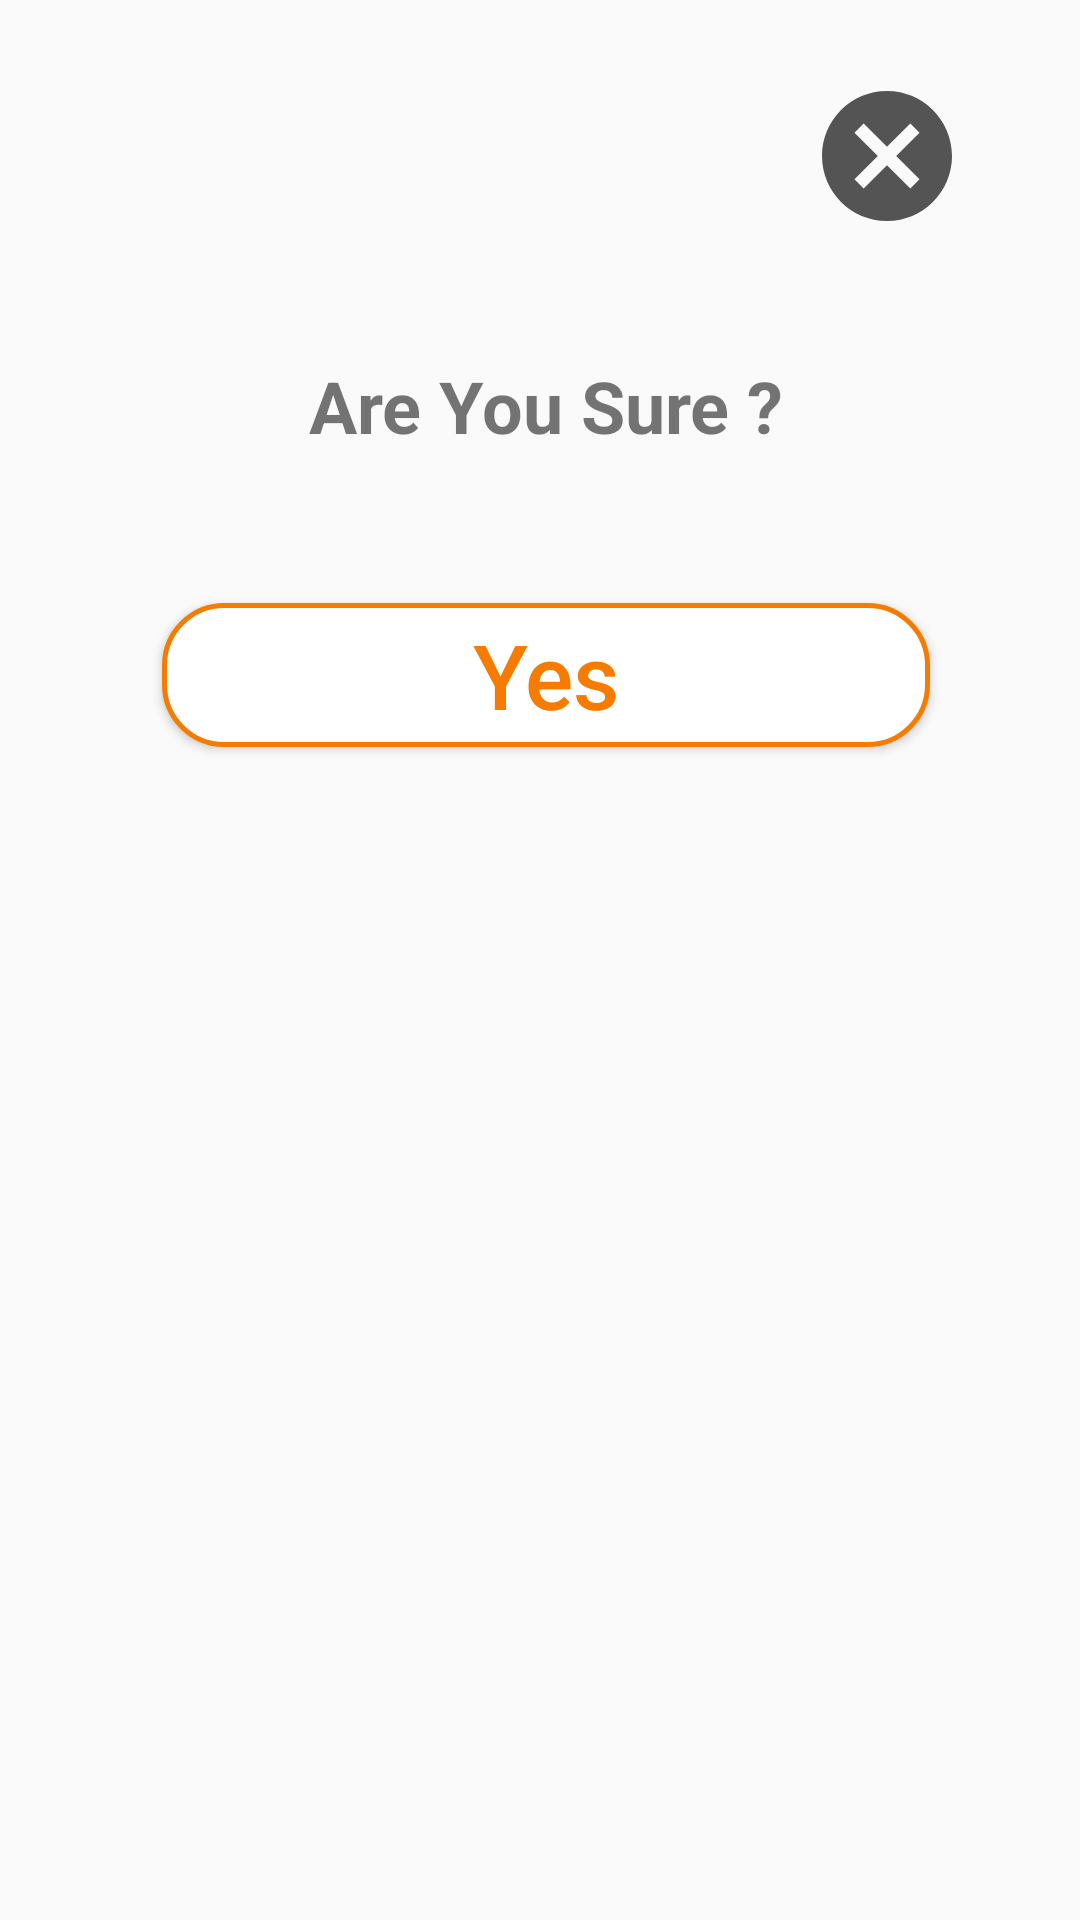

Point at icon controls on the screen. Image size 1080 x 1920, points as (x,y).
cancel: (887,156)
